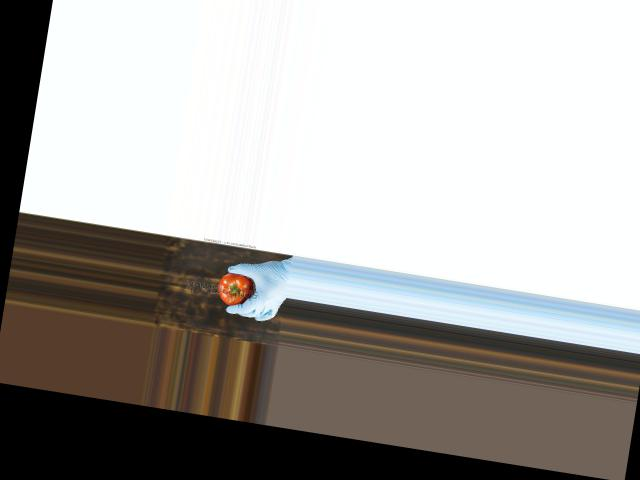tomato: (214, 270, 255, 308)
